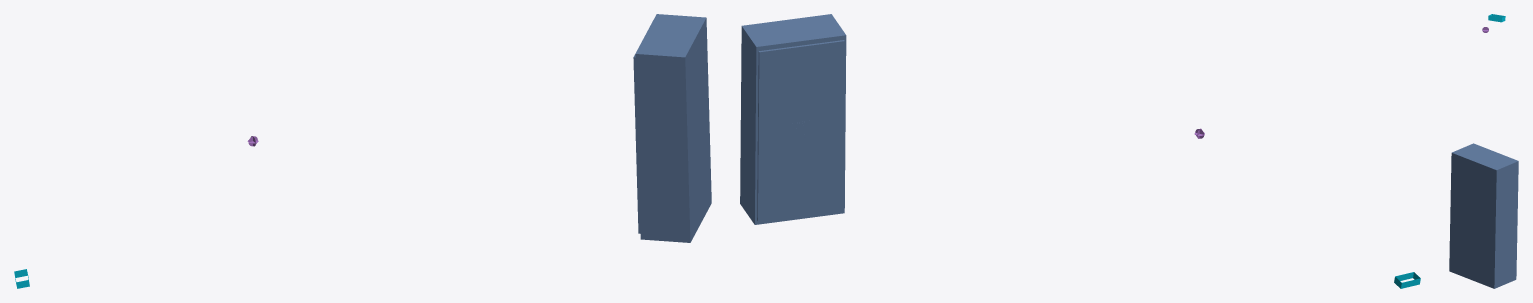
The model's file is tile_143.glb.
The picture shows the model from 3 angles, left to right: view 1: azimuth 30°, elevation 25°; view 2: azimuth 150°, elevation 25°; view 3: azimuth 270°, elevation 25°; orthographic projection. The views are drawn at different scales.
Bounding box in the file's own units: 7.49 × 1.91 × 1.02.
